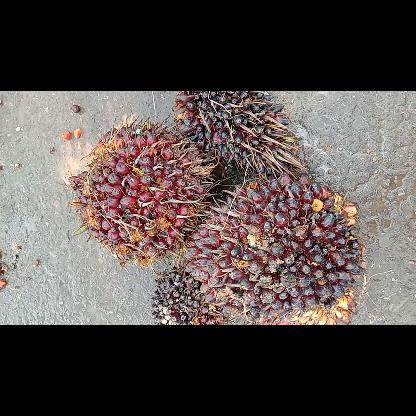Kurang masak: (182, 176, 362, 322)
TBS abnormal: (174, 90, 298, 178), (152, 268, 224, 324)
TBS masak: (70, 120, 212, 264)
